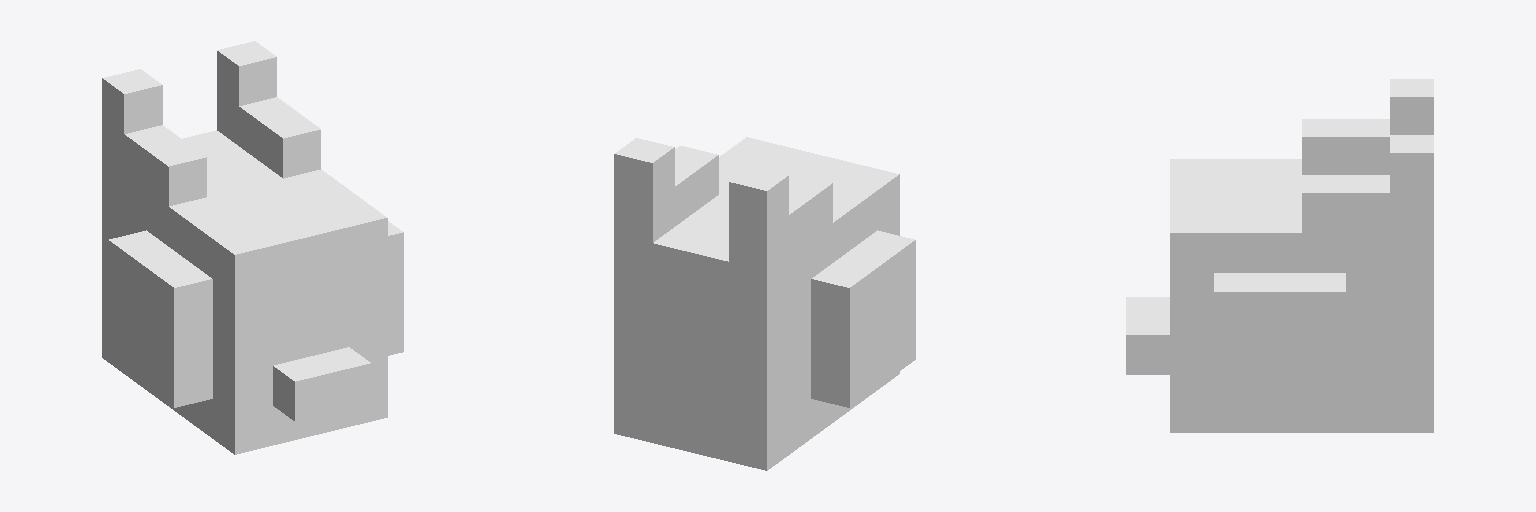
File: buho.obj
3 renders of one model, left to right at view 1: azimuth 30°, elevation 25°; view 2: azimuth 150°, elevation 25°; view 3: azimuth 270°, elevation 25°, orthographic.
Visible parts, largest first — view 1: buho; view 2: buho; view 3: buho.
Boxes of the visible parts, box(x1,y1,x2,y2) form: buho: box(102, 41, 403, 454); buho: box(614, 137, 915, 470); buho: box(1126, 79, 1433, 432).
Bounding box in the file's own units: 6 × 7 × 7.